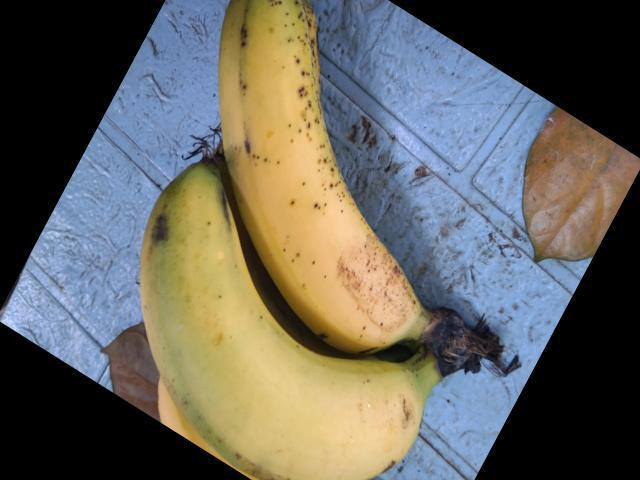freshripe: (127, 205, 440, 479)
ripe: (179, 0, 411, 367)
